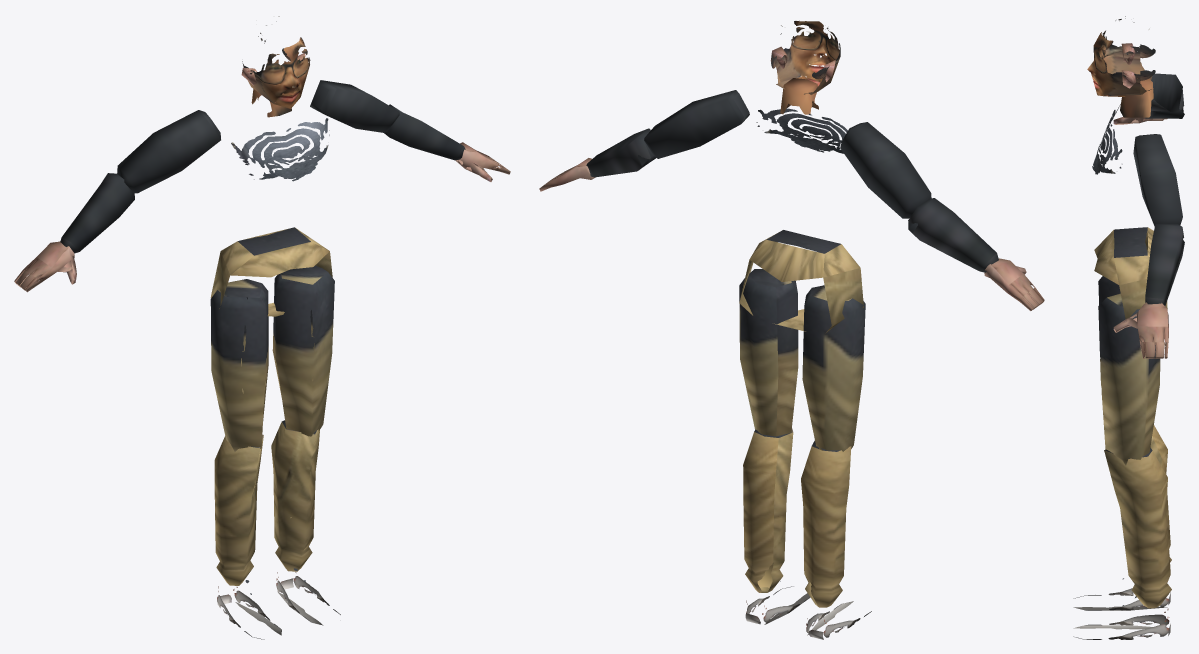
Rendered from JAcobfbx.fbx.
3 renders of one model, left to right at view 1: azimuth 30°, elevation 25°; view 2: azimuth 150°, elevation 25°; view 3: azimuth 270°, elevation 25°, orthographic.
Parts seen in each view (by area): view 1: Man_3; view 2: Man_3; view 3: Man_3.
Part boxes in pixels (x1=…): Man_3: x1=14, y1=16, x2=510, y2=639; Man_3: x1=539, y1=20, x2=1044, y2=639; Man_3: x1=1073, y1=16, x2=1184, y2=639.
Size of the model in its own units: 165 by 192 by 32.38.
Materials: 1 (1 with a texture image).
